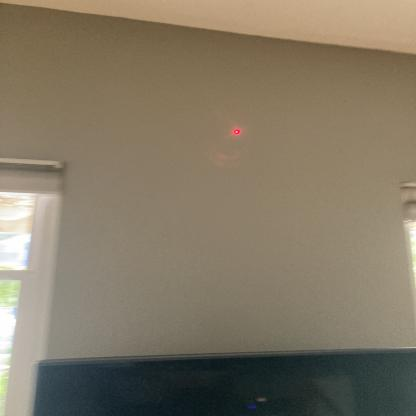target: (230, 126, 245, 137)
